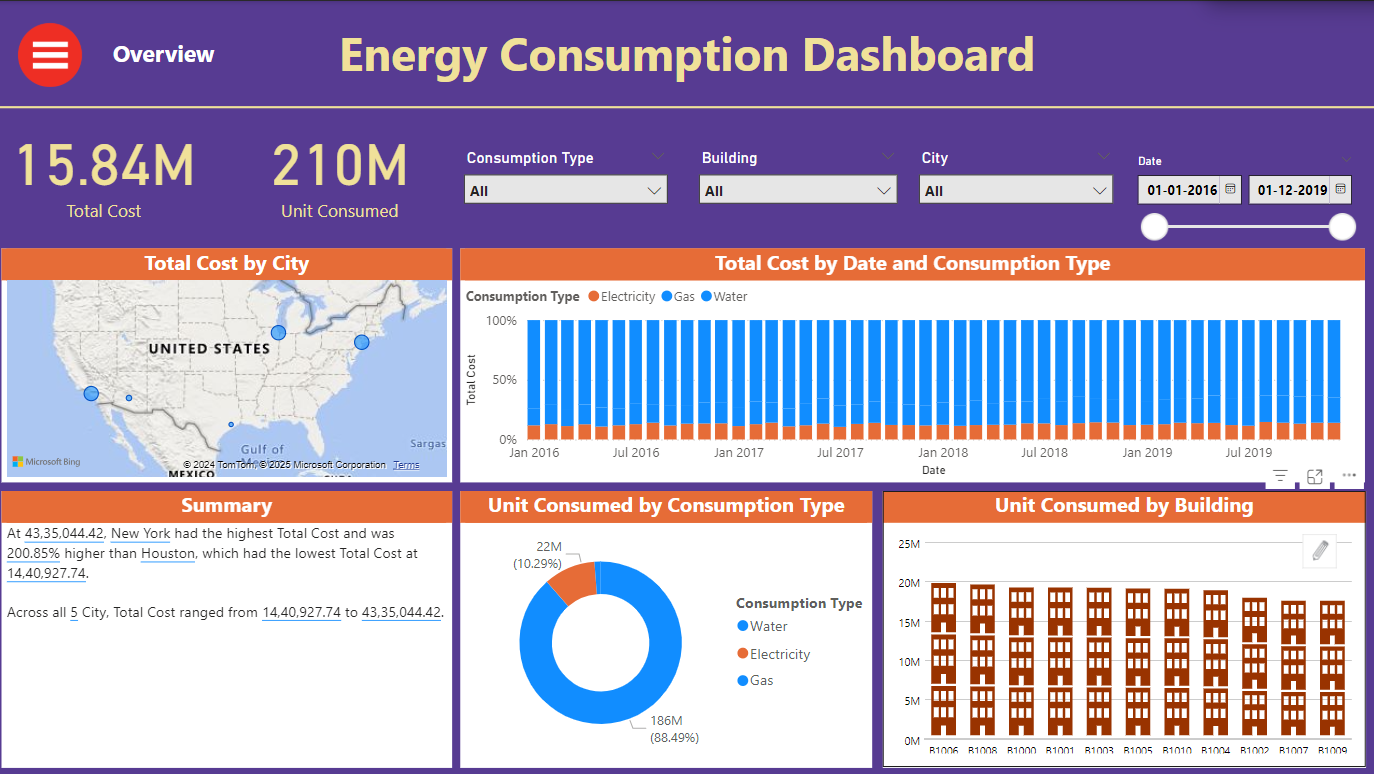

The page's visual inventory and layout, read from the dashboard file:
{"tool":"powerbi","page":{"name":"Overview","canvas":[1280,720],"ordinal":0},"visuals":[{"type":"shape","box":[0,83.6,1280,30.2],"z":0},{"type":"image","box":[0,14.6,94.6,69.7],"z":1000},{"type":"textbox","box":[290.3,14.4,698.4,69],"z":2000},{"type":"textbox","box":[94,28.6,117.8,41.7],"z":3000},{"type":"card","fields":{"Values":["Energy Consumptions.Total Cost"]},"box":[2.9,98.8,190.8,115.1],"z":4000},{"type":"card","fields":{"Values":["Energy Consumptions.Unit Consumed"]},"box":[212.9,98.8,209,115.1],"z":5000},{"type":"slicer","fields":{"Values":["Energy Consumptions.Consumption Type"]},"box":[421.9,132.3,210,63.3],"z":6000},{"type":"slicer","fields":{"Values":["Energy Consumptions.Building"]},"box":[640.5,132.3,205.2,63.3],"z":7000},{"type":"slicer","fields":{"Values":["Building Master.City"]},"box":[845.7,132.3,201.3,63.3],"z":8000},{"type":"slicer","fields":{"Values":["Energy Consumptions.Date"]},"box":[1047,137.1,224.4,93],"z":9000},{"type":"map","fields":{"Size":["Energy Consumptions.Total Cost"],"Category":["Building Master.City"]},"box":[2.9,230.1,419,217.6],"z":10000},{"type":"hundredPercentStackedColumnChart","fields":{"Y":["Energy Consumptions.Total Cost"],"Category":["Energy Consumptions.Date"],"Series":["Energy Consumptions.Consumption Type"]},"box":[429.5,230.1,841.8,217.6],"z":11000},{"type":"textbox","title":"Summary","box":[2.9,455.4,419,257.9],"z":12000},{"type":"donutChart","fields":{"Category":["Energy Consumptions.Consumption Type"],"Y":["Energy Consumptions.Unit Consumed"]},"box":[429.5,455.4,383.5,257.9],"z":13000},{"type":"PBI_CV_73744D90_4DC9_4F18_8BA5_EE8FA5C98035","fields":{"Values":["Energy Consumptions.Unit Consumed"],"Category":["Energy Consumptions.Building"]},"box":[821.9,455.7,449.6,257.3],"z":14000},{"type":"actionButton","box":[3.1,9.4,91.5,74.9],"z":15000}]}

Visuals, with their boxes in screenshot pixels (x1, y1, x2, y2), scaled from the page's 1280x720 canvas onto the 1374x774 screenshot:
shape: locate(0, 90, 1373, 122)
image: locate(0, 16, 102, 91)
textbox: locate(312, 15, 1061, 90)
textbox: locate(101, 31, 227, 76)
card - Energy Consumptions.Total Cost: locate(3, 106, 208, 230)
card - Energy Consumptions.Unit Consumed: locate(229, 106, 453, 230)
slicer - Energy Consumptions.Consumption Type: locate(453, 142, 678, 210)
slicer - Energy Consumptions.Building: locate(688, 142, 908, 210)
slicer - Building Master.City: locate(908, 142, 1124, 210)
slicer - Energy Consumptions.Date: locate(1124, 147, 1365, 247)
map - Energy Consumptions.Total Cost x Building Master.City: locate(3, 247, 453, 481)
hundredPercentStackedColumnChart - Energy Consumptions.Total Cost x Energy Consumptions.Date: locate(461, 247, 1365, 481)
"Summary" textbox: locate(3, 490, 453, 767)
donutChart - Energy Consumptions.Consumption Type x Energy Consumptions.Unit Consumed: locate(461, 490, 873, 767)
PBI_CV_73744D90_4DC9_4F18_8BA5_EE8FA5C98035 - Energy Consumptions.Unit Consumed x Energy Consumptions.Building: locate(882, 490, 1365, 766)
actionButton: locate(3, 10, 102, 91)
